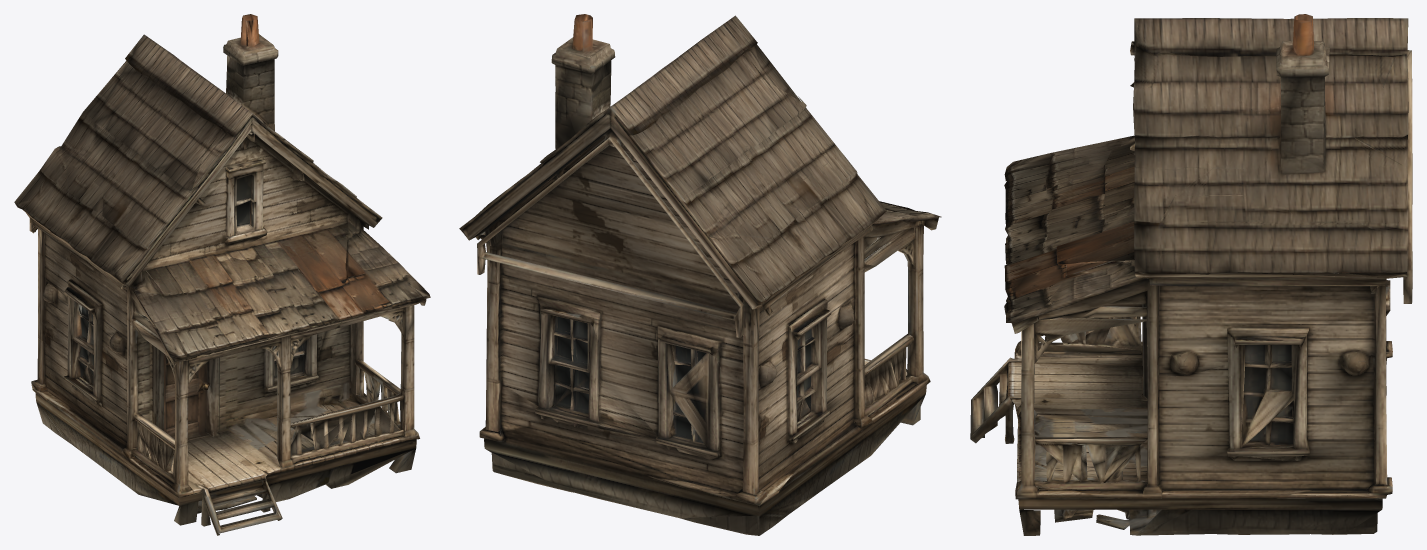
Rendered from SM_Main_House.glb.
3 renders of one model, left to right at view 1: azimuth 30°, elevation 25°; view 2: azimuth 150°, elevation 25°; view 3: azimuth 270°, elevation 25°, orthographic. The views are drawn at different scales.
Parts seen in each view (by area): view 1: Mesh_0; view 2: Mesh_0; view 3: Mesh_0.
Boxes of the visible parts, <box> form: Mesh_0: <box>14,14,430,535</box>; Mesh_0: <box>459,14,941,535</box>; Mesh_0: <box>970,14,1412,535</box>.
Size of the model in its own units: 5.02 by 7 by 5.77.
1 material, 1 textured.
